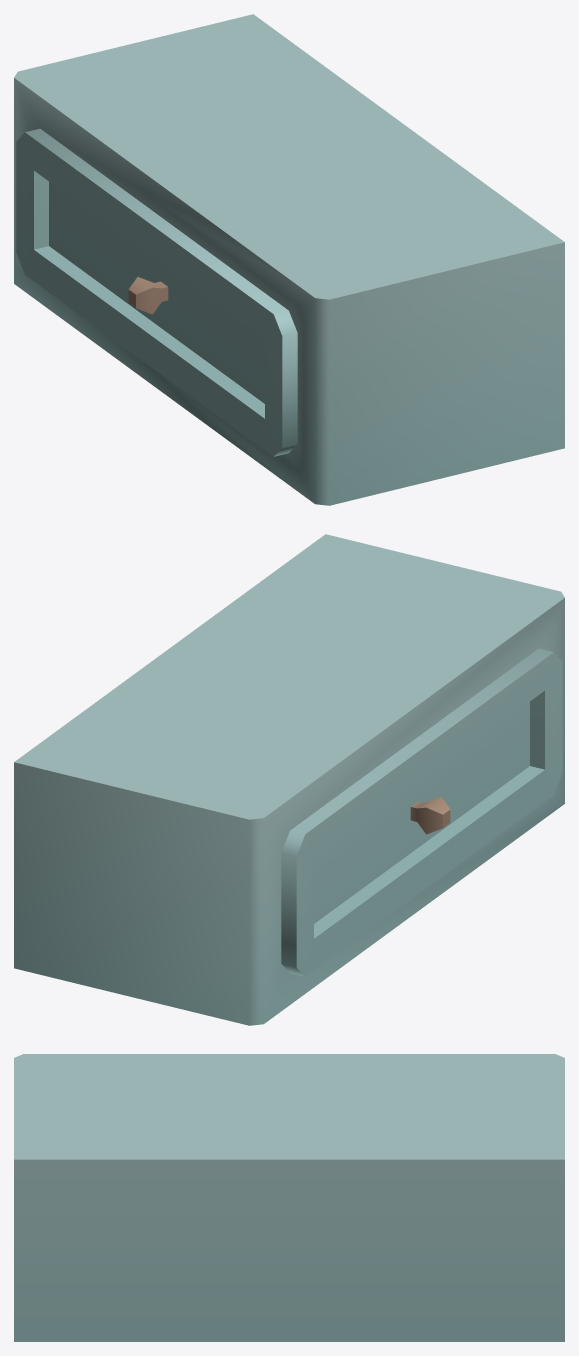
File: sink-hanging-cabinets-classic-double-no-sink (%wall).glb
3 renders of one model, top to bottom at view 1: azimuth 30°, elevation 25°; view 2: azimuth 150°, elevation 25°; view 3: azimuth 270°, elevation 25°, orthographic. The views are drawn at different scales.
Visible parts, largest first — view 1: sink-hanging-cabinets-classic-double-no-sink (%wall); view 2: sink-hanging-cabinets-classic-double-no-sink (%wall); view 3: sink-hanging-cabinets-classic-double-no-sink (%wall).
Part boxes in pixels (bbox=[...]): sink-hanging-cabinets-classic-double-no-sink (%wall): bbox=[14, 14, 564, 505]; sink-hanging-cabinets-classic-double-no-sink (%wall): bbox=[14, 534, 564, 1025]; sink-hanging-cabinets-classic-double-no-sink (%wall): bbox=[14, 1054, 564, 1341].
Size of the model in its own units: 0.4569 by 0.325 by 0.8905.
